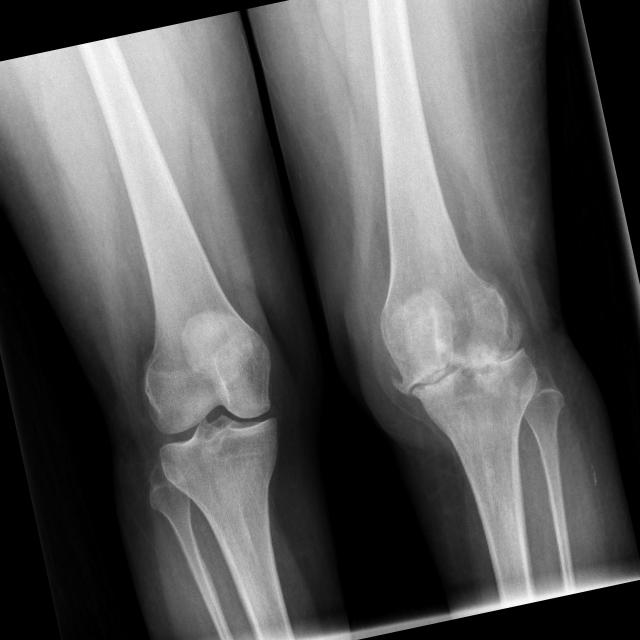Knee: (372, 268, 552, 450), (134, 323, 296, 493)
